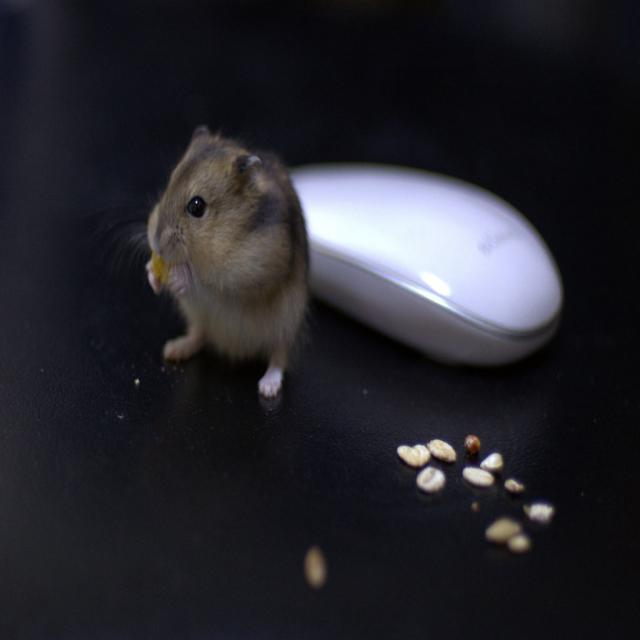rat: (79, 125, 313, 397)
